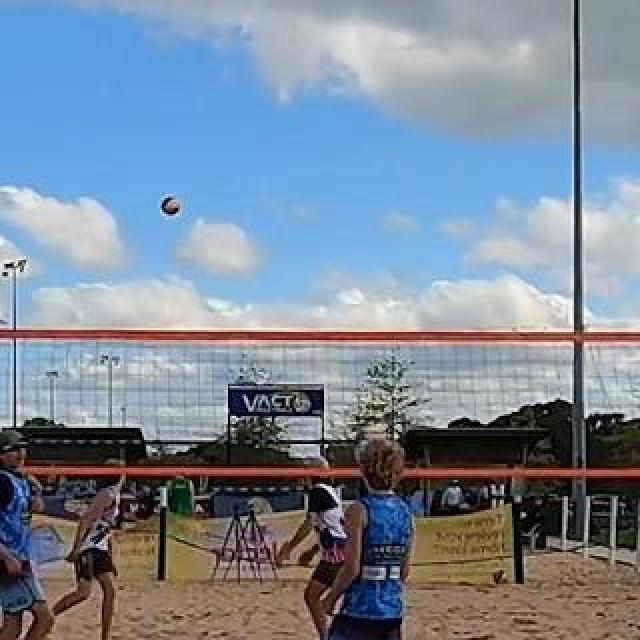volleyball: (161, 197, 181, 217), (493, 568, 507, 586)
